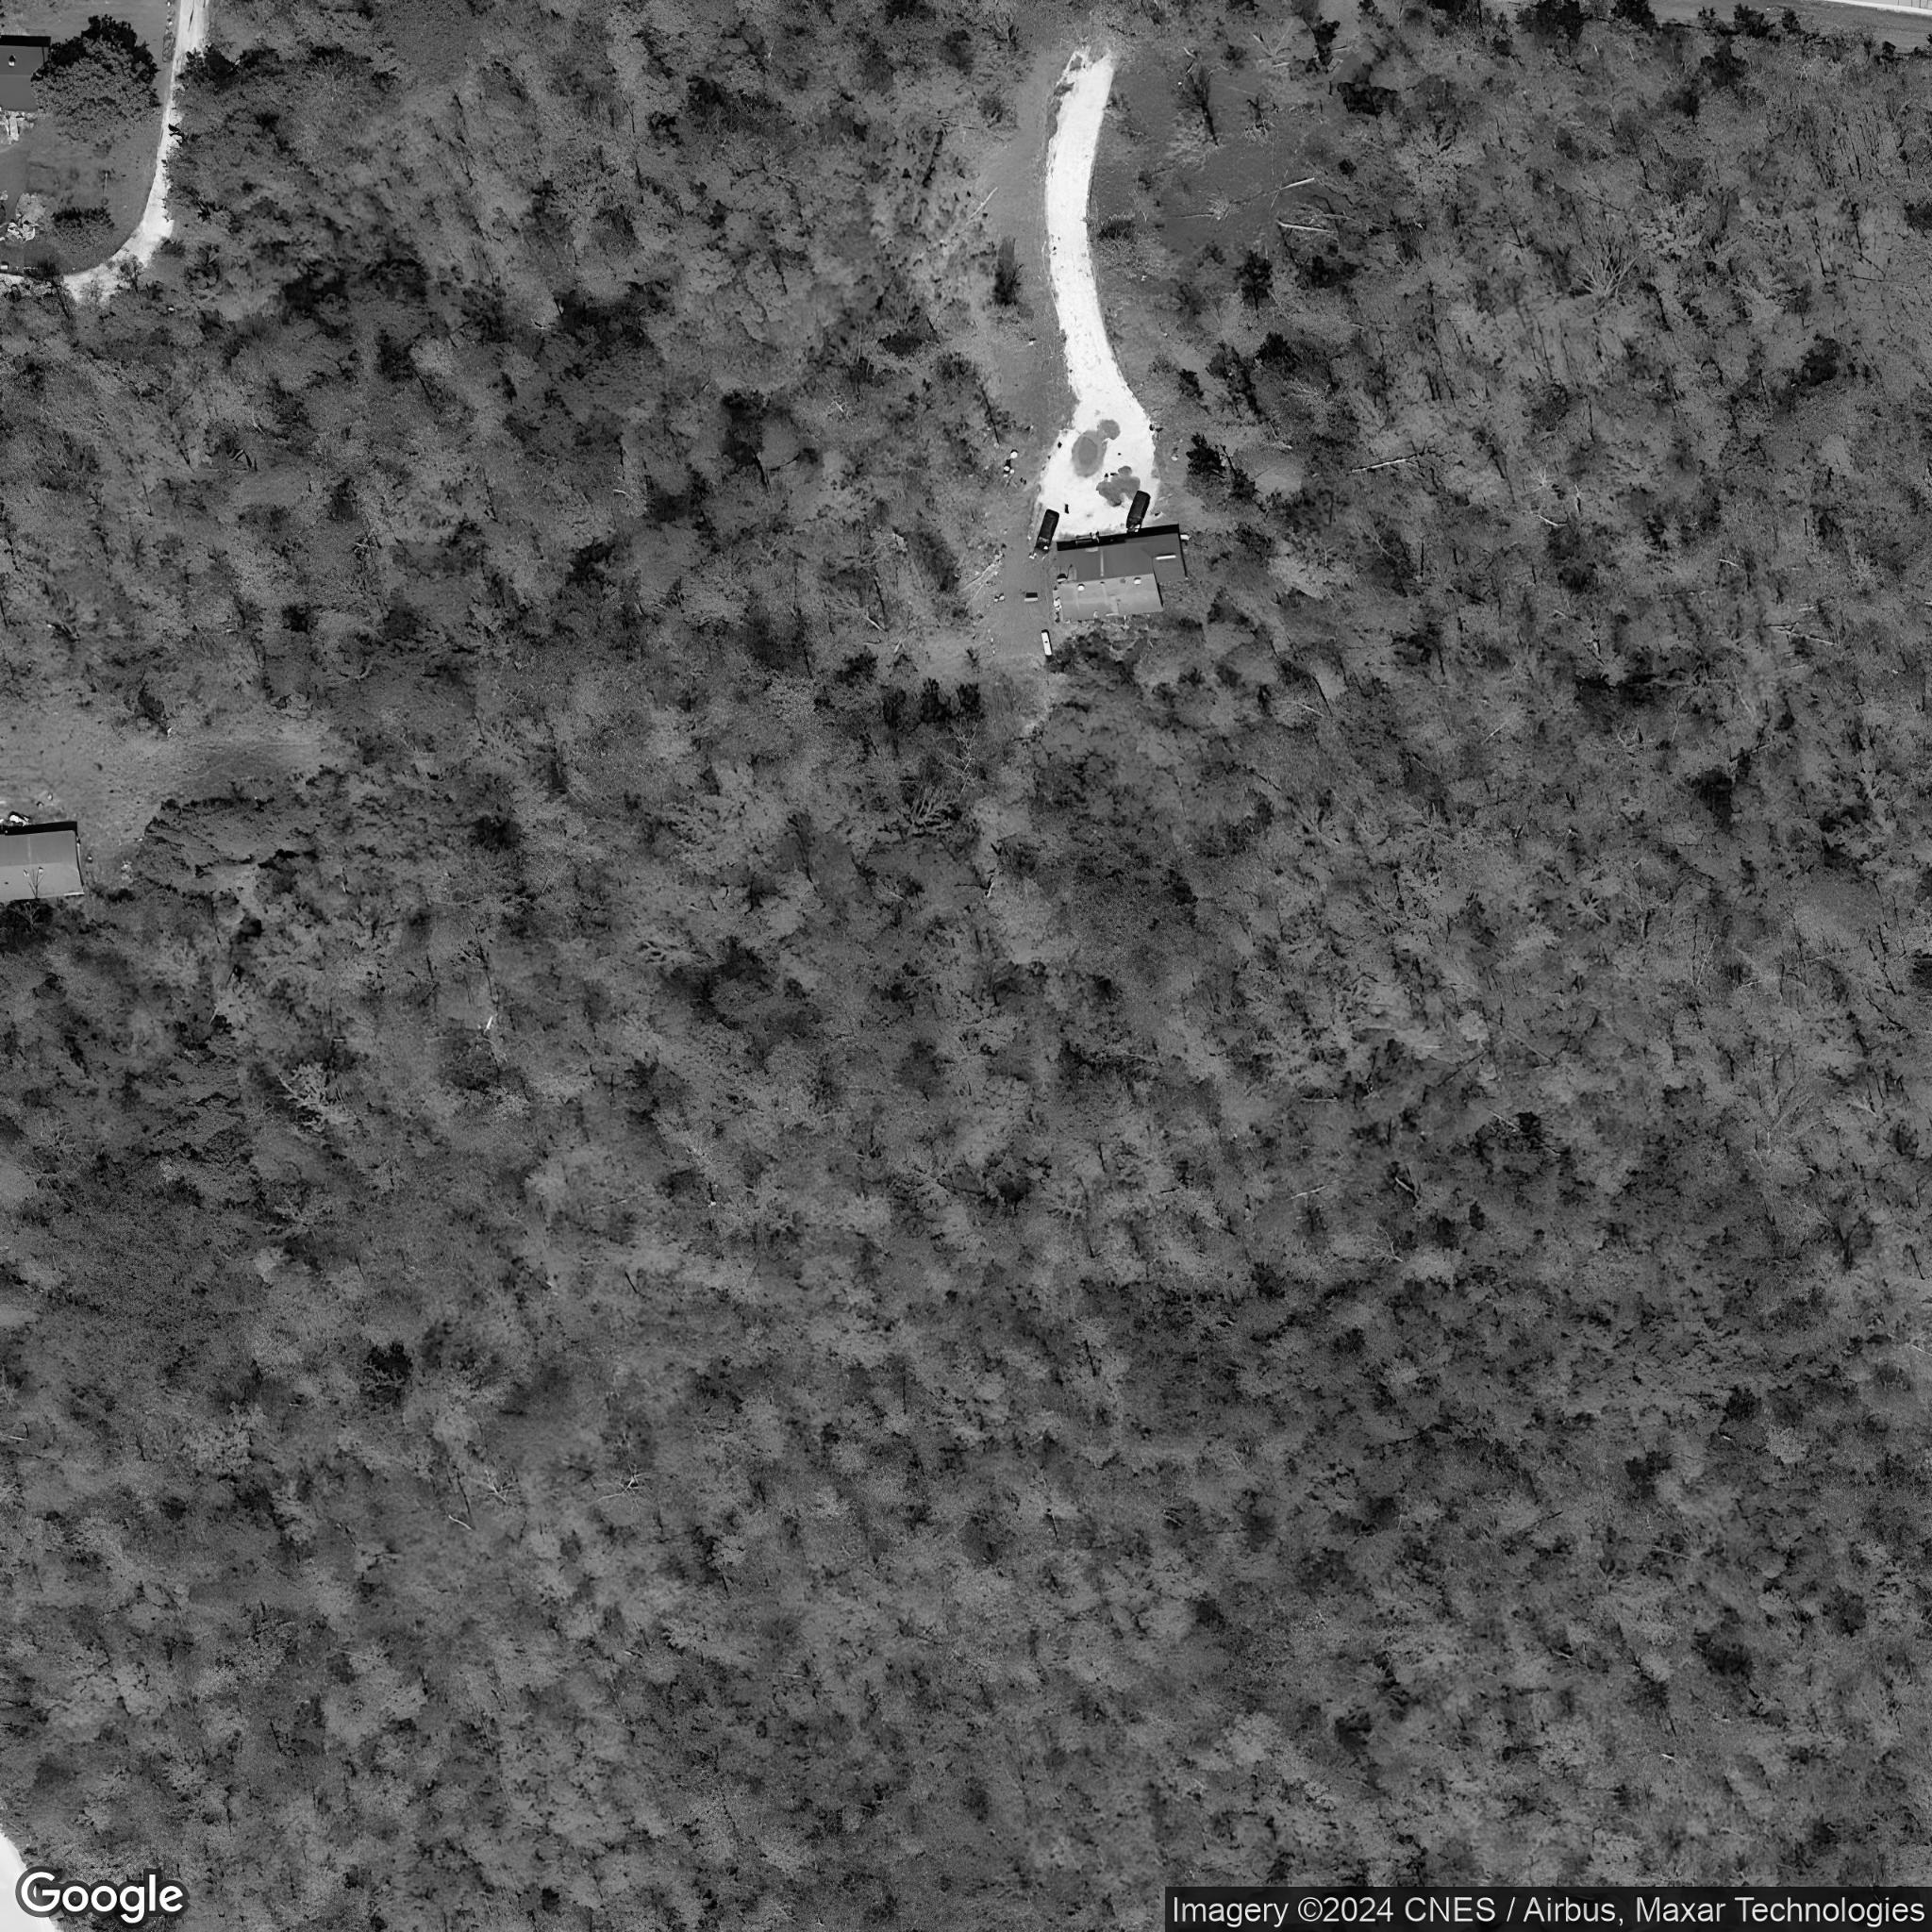House: (1051, 531, 1189, 625), (2, 828, 87, 902), (0, 44, 50, 115)
Propane: (1037, 628, 1056, 662)
